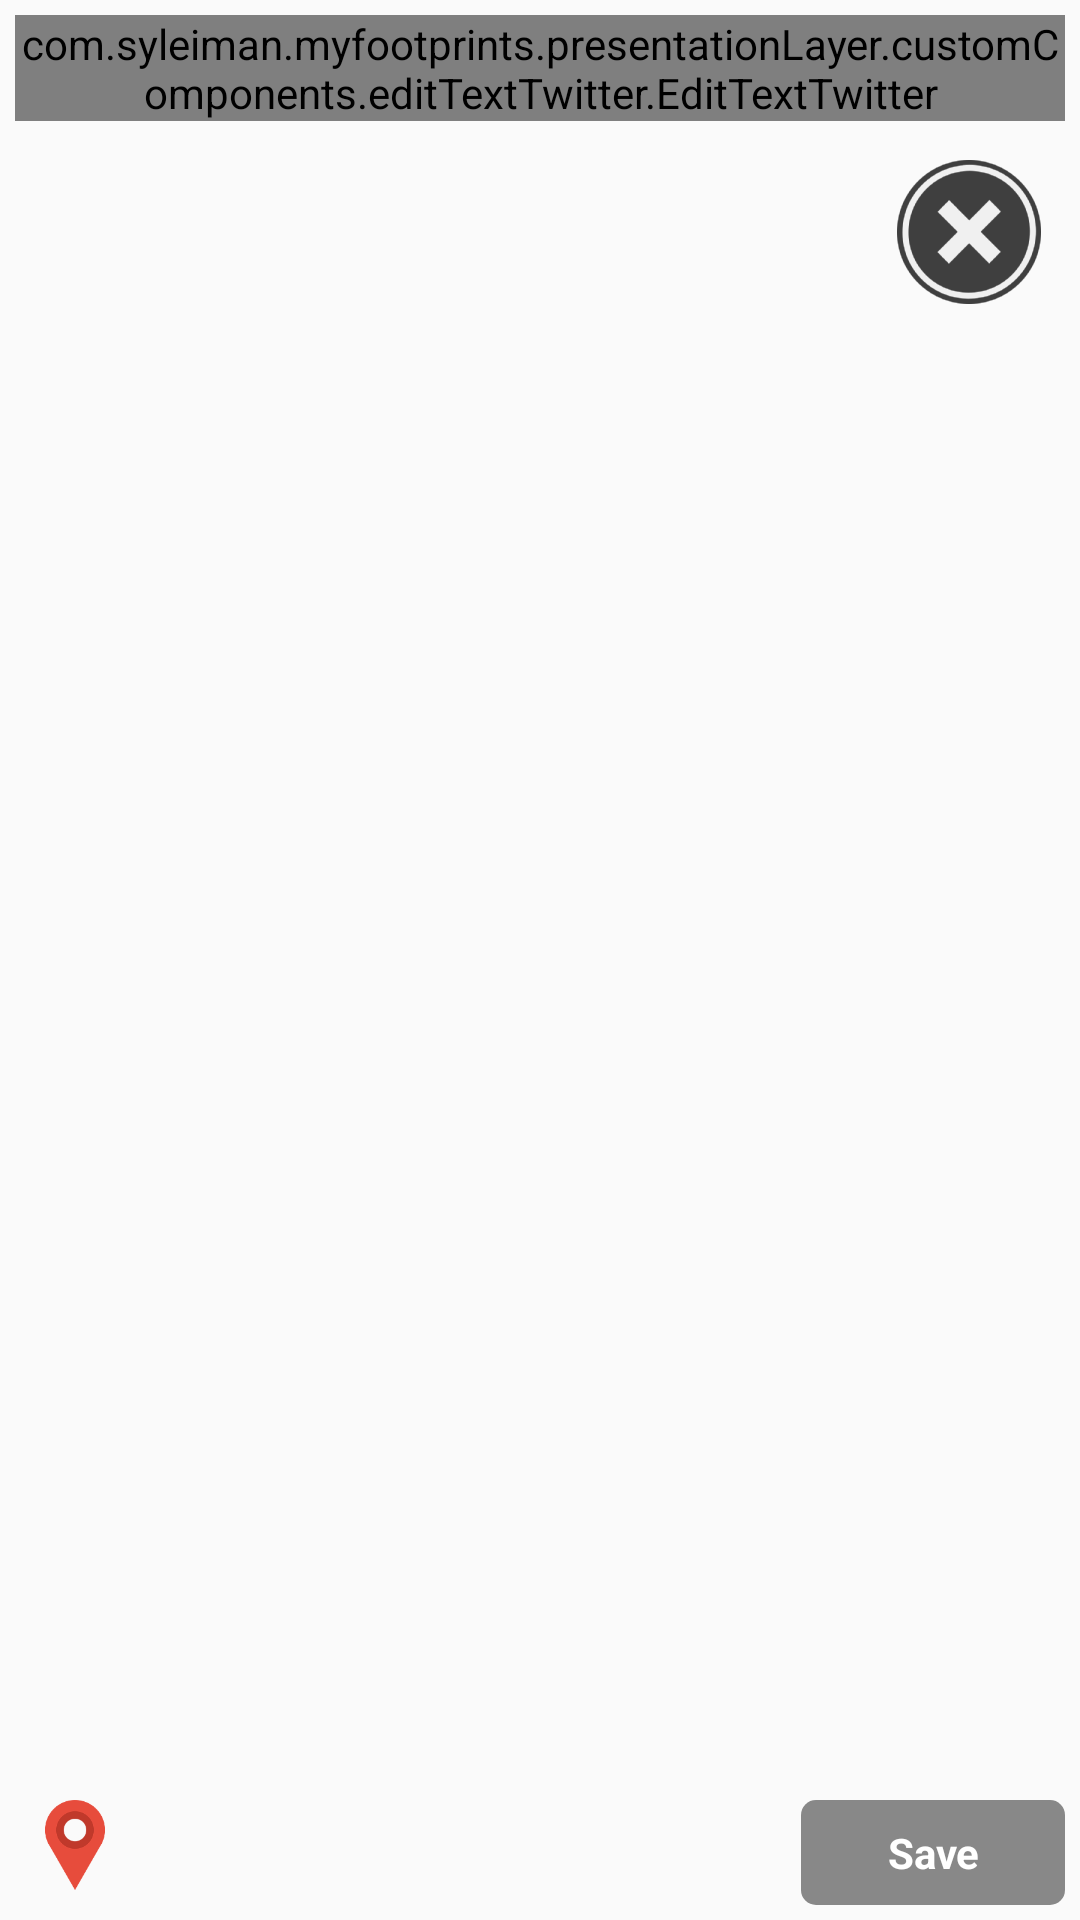

Point at icon controls on the screen. Image size 1080x1920, points as (x=x, y=y).
close on: (x=969, y=232)
map marker: (x=75, y=1845)
